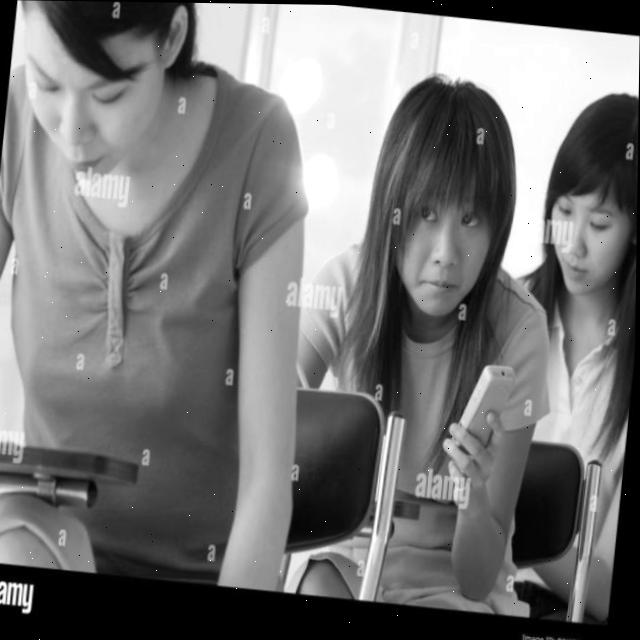phone: (451, 358, 518, 457)
